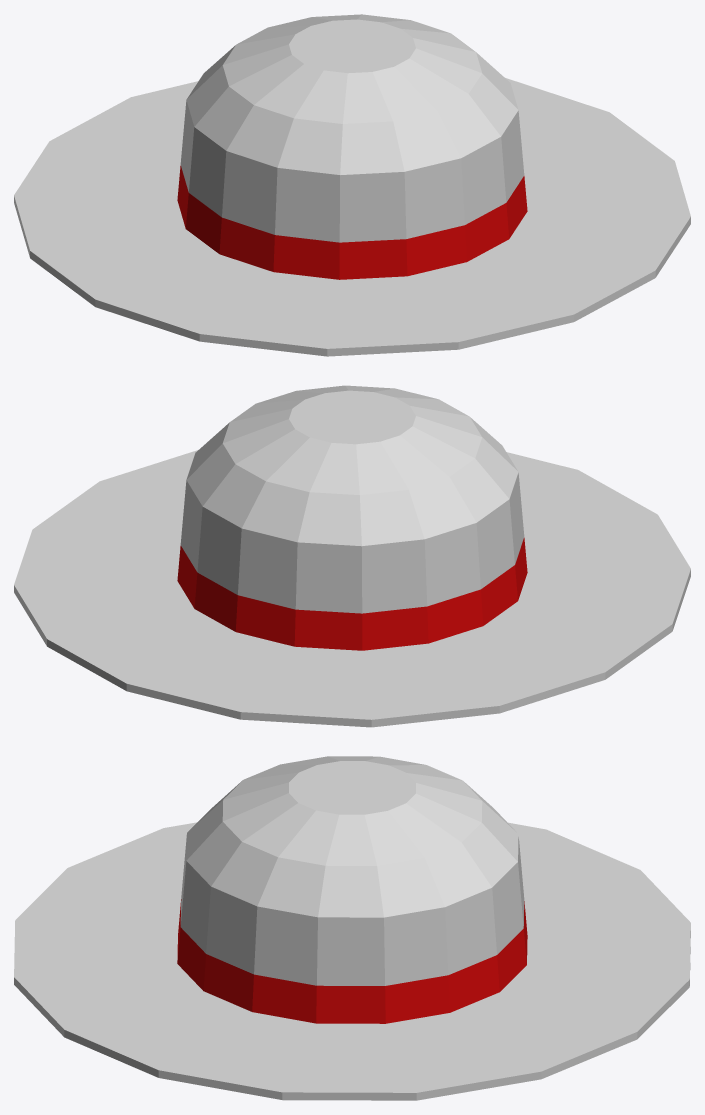
Rendered from cap9_mealZip.fbx.
3 renders of one model, top to bottom at view 1: azimuth 30°, elevation 25°; view 2: azimuth 150°, elevation 25°; view 3: azimuth 270°, elevation 25°, orthographic.
Visible parts, largest first — view 1: 밀짚모자; view 2: 밀짚모자; view 3: 밀짚모자.
Boxes of the visible parts, bbox=[...] form: 밀짚모자: bbox=[14, 14, 690, 356]; 밀짚모자: bbox=[14, 385, 690, 727]; 밀짚모자: bbox=[14, 756, 690, 1100].
Bounding box in the file's own units: 93.05 × 25.73 × 93.05.
